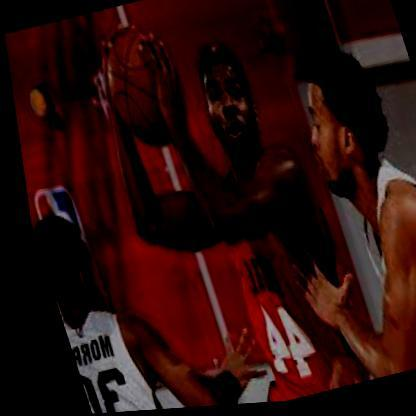basketball: (87, 17, 192, 156)
